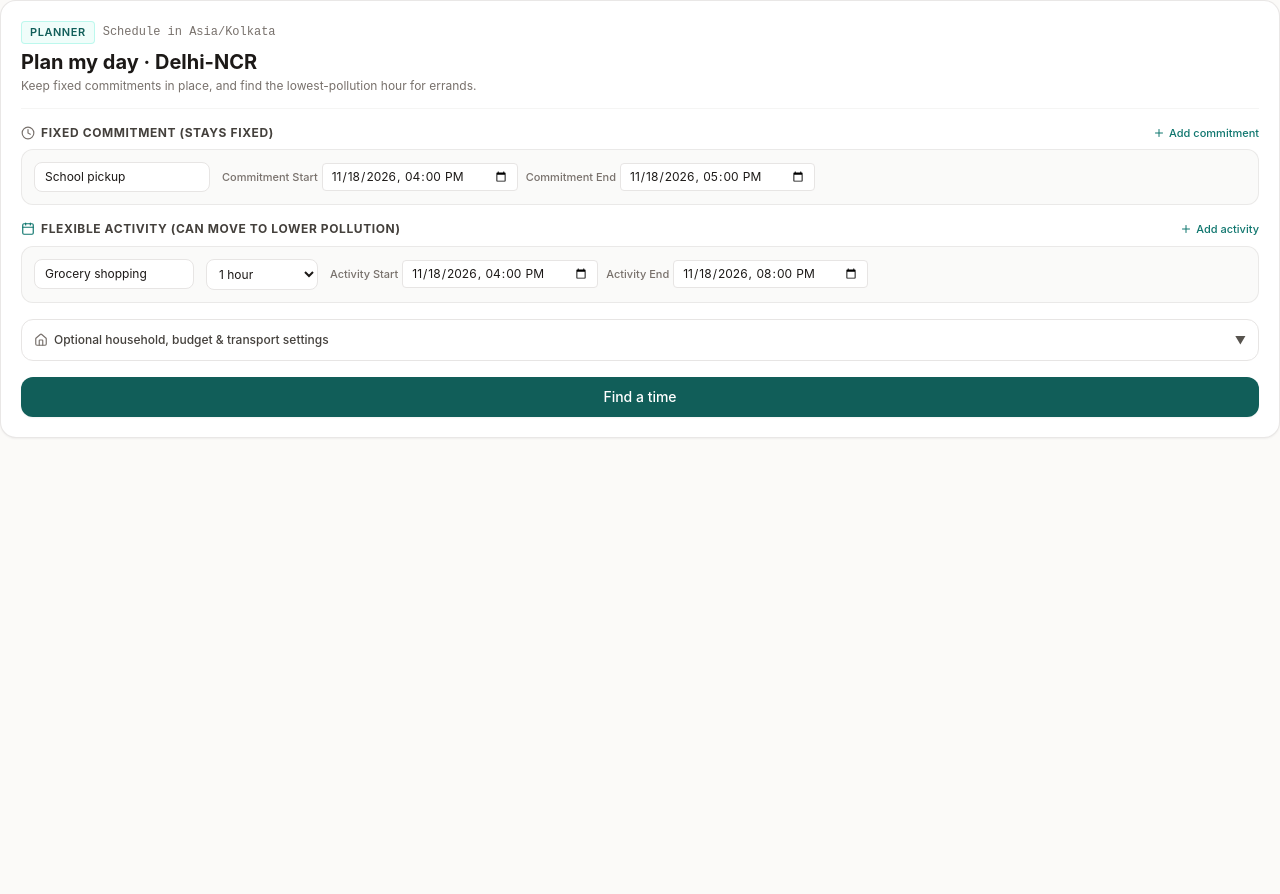
clears stale Gemini attribution immediately on second submission while second request is pending, and renders second result alone
The width and height of the screenshot is (1280, 894).
Earlier steps of the test are not shown.
Later steps or results of the test are not shown.
Click the button "Find a time": (640, 396) [21,376,1259,416]
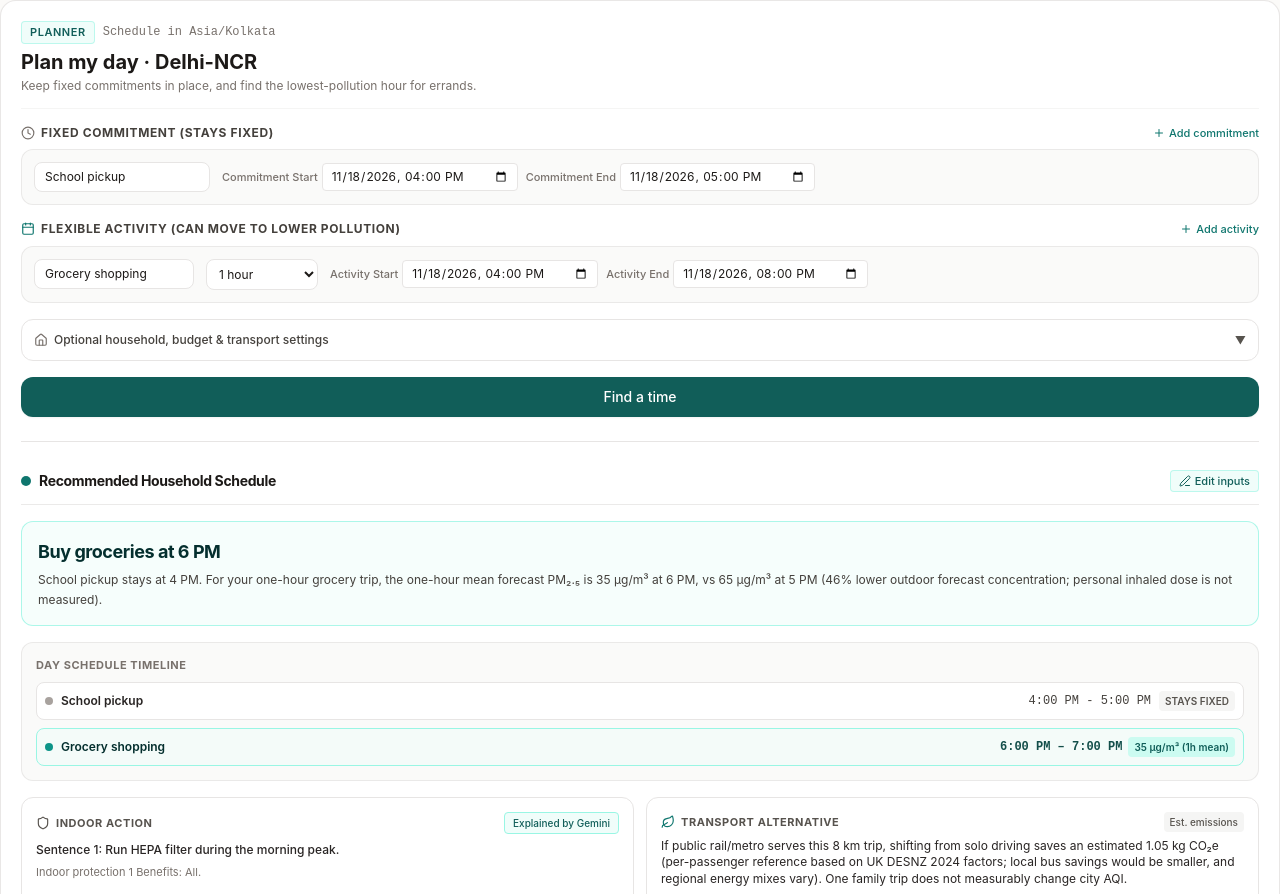
expect the text "Sentence 1: Run HEPA filter during the morning peak." is shown: met, box [36,842,339,856]
expect the text "Explained by Gemini" is shown: met, box [504,812,619,834]
